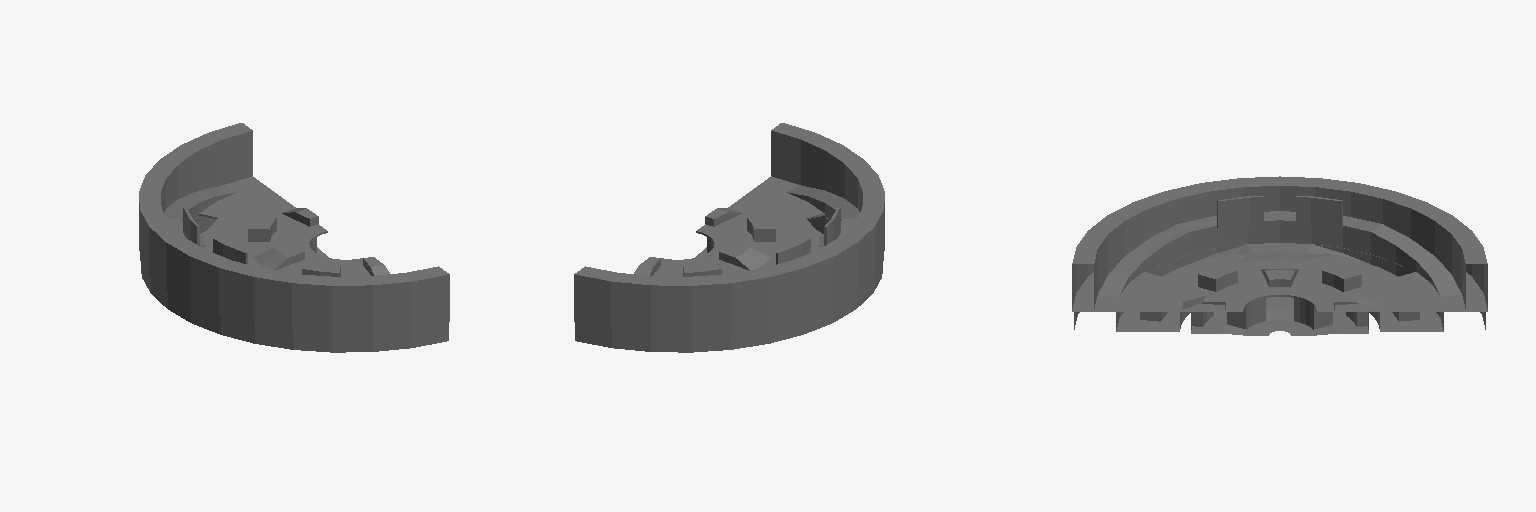
The model's file is xkillArena2.obj.
3 views of the same model, side by side, from view 1: azimuth 30°, elevation 25°; view 2: azimuth 150°, elevation 25°; view 3: azimuth 270°, elevation 25° (orthographic).
Visible parts, largest first — view 1: Cylinder_002_Cylinder_001, Cylinder_001_Cylinder_002, Cylinder; view 2: Cylinder_002_Cylinder_001, Cylinder_001_Cylinder_002, Cylinder; view 3: Cylinder_002_Cylinder_001, Cylinder_001_Cylinder_002, Cylinder.
Boxes of the visible parts, x1=… form: Cylinder_002_Cylinder_001: x1=139, y1=123, x2=449, y2=331; Cylinder_001_Cylinder_002: x1=139, y1=176, x2=449, y2=333; Cylinder: x1=140, y1=216, x2=448, y2=352; Cylinder_002_Cylinder_001: x1=574, y1=123, x2=884, y2=331; Cylinder_001_Cylinder_002: x1=574, y1=176, x2=884, y2=333; Cylinder: x1=575, y1=216, x2=883, y2=352; Cylinder_002_Cylinder_001: x1=1072, y1=176, x2=1487, y2=308; Cylinder_001_Cylinder_002: x1=1072, y1=241, x2=1487, y2=311; Cylinder: x1=1074, y1=243, x2=1485, y2=335.
Size of the model in its own units: 19.26 by 7.3 by 38.53.